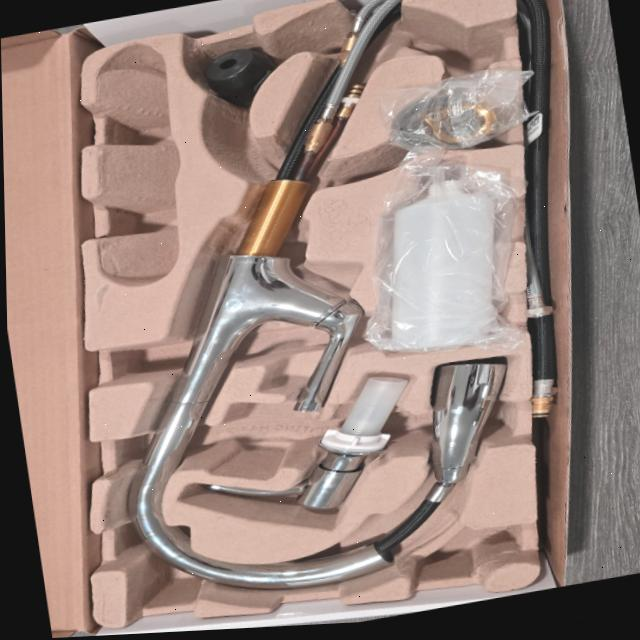1: (124, 0, 505, 589)
2: (205, 373, 407, 509)
3: (382, 159, 495, 353)
4m: (97, 41, 179, 284)
5: (201, 46, 281, 108)
6: (381, 66, 539, 166)
7m: (405, 9, 502, 73)
